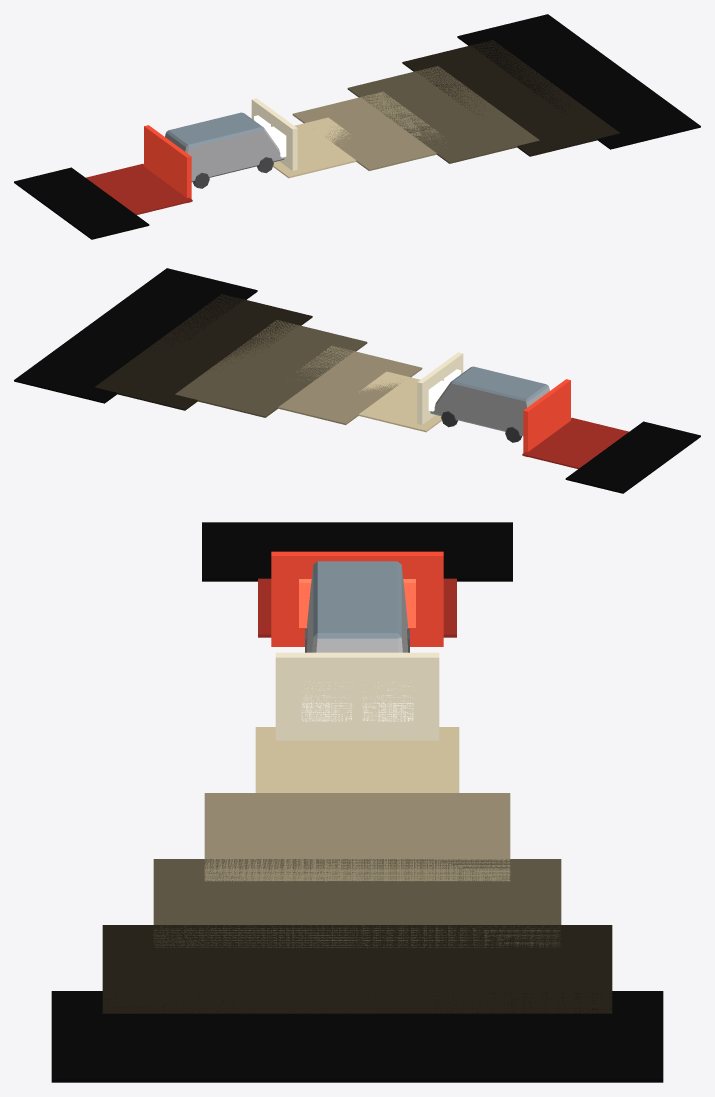
Rendered from veh_car_estate.glb.
The picture shows the model from 3 angles, top to bottom: view 1: azimuth 30°, elevation 25°; view 2: azimuth 150°, elevation 25°; view 3: azimuth 270°, elevation 25°; orthographic projection. The views are drawn at different scales.
Visible parts, largest first — view 1: veh_car_estate; view 2: veh_car_estate; view 3: veh_car_estate.
Part boxes in pixels (<box>): veh_car_estate: <box>14,14,700,239</box>; veh_car_estate: <box>14,268,700,493</box>; veh_car_estate: <box>51,522,663,1082</box>.
Bounding box in the file's own units: 1.61 × 0.1259 × 0.744.
